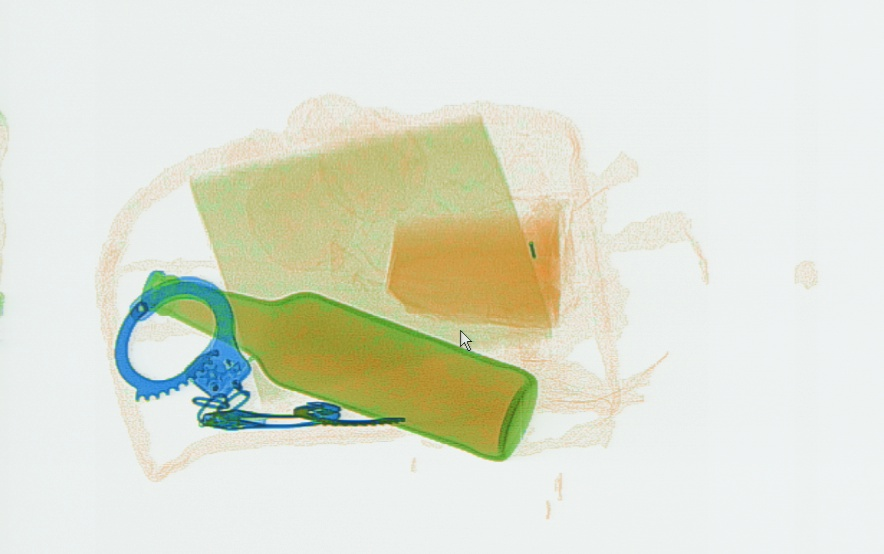handcuffs: (112, 273, 406, 430)
